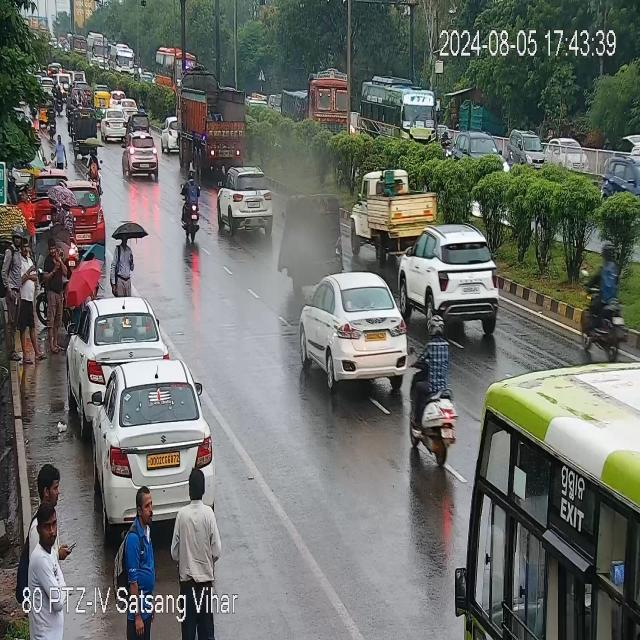2-wheelers: (182, 175, 207, 241), (45, 106, 58, 140)
auto: (351, 172, 439, 250), (71, 110, 101, 154), (91, 90, 113, 112)
bus: (465, 361, 640, 640), (360, 79, 440, 144), (85, 36, 140, 75), (153, 45, 193, 87)
car: (77, 358, 219, 522), (302, 274, 410, 390), (397, 228, 508, 326), (71, 298, 165, 396), (216, 170, 275, 230), (68, 175, 103, 246), (606, 140, 640, 210), (444, 130, 504, 166), (122, 138, 166, 178), (98, 110, 131, 141)
pedestrian: (416, 317, 458, 465), (24, 464, 72, 585), (176, 474, 223, 591), (26, 514, 74, 595), (120, 494, 154, 599), (16, 241, 46, 359), (584, 249, 622, 340), (45, 242, 69, 352), (109, 234, 136, 296), (20, 188, 36, 243), (88, 249, 106, 297), (46, 136, 70, 168), (86, 147, 105, 187)
truck: (175, 68, 252, 167), (288, 80, 362, 139)
